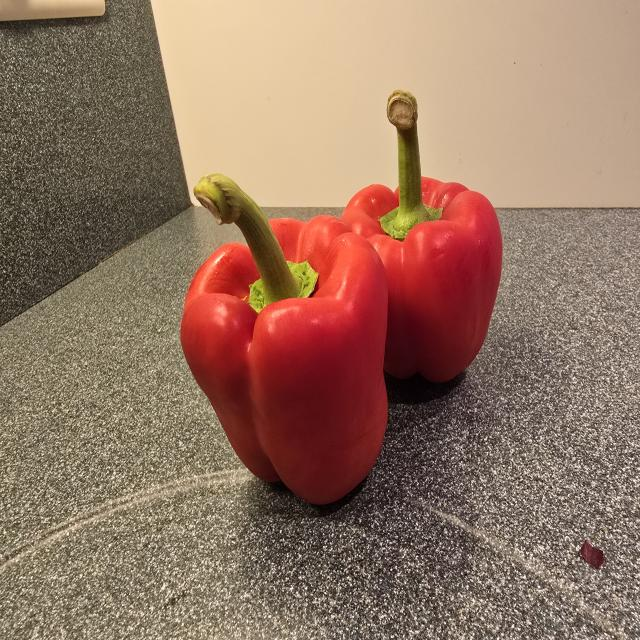Bell Pepper: (174, 167, 397, 516), (332, 83, 511, 395)
